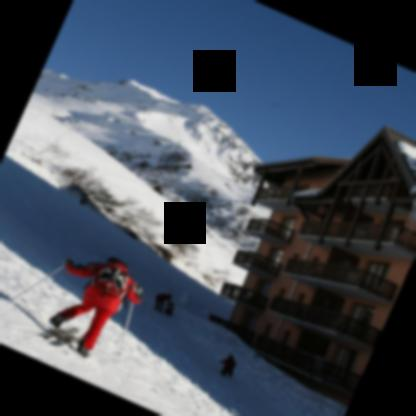backpack: (92, 264, 128, 301)
